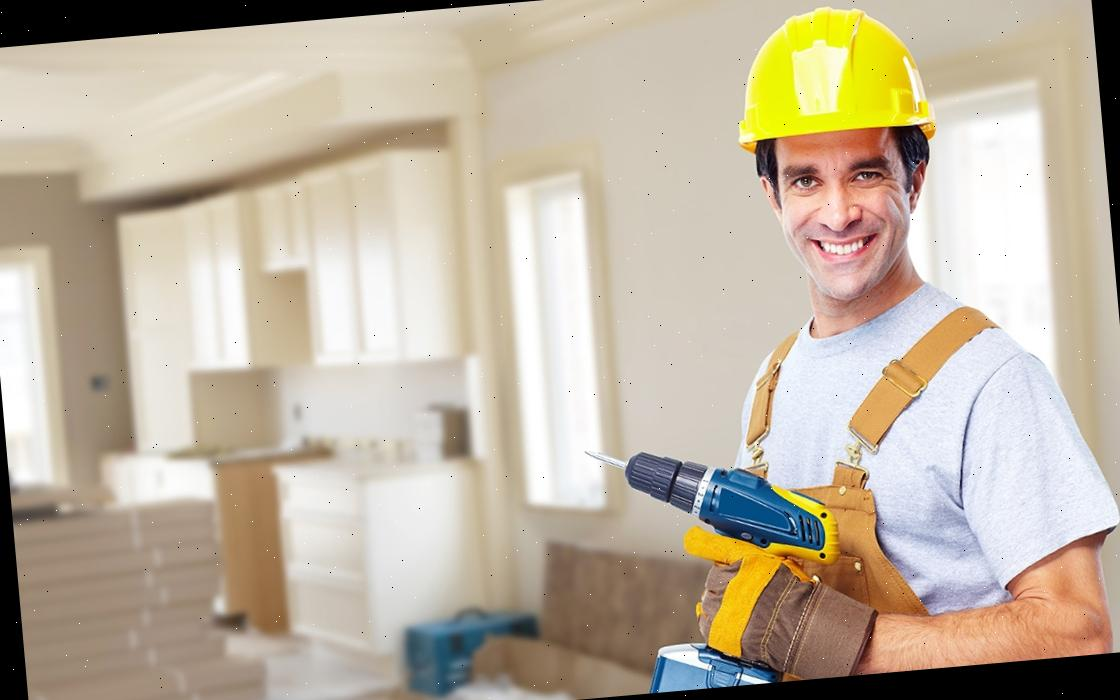helmet: (721, 0, 942, 153)
no_wear: (716, 287, 1120, 684)
